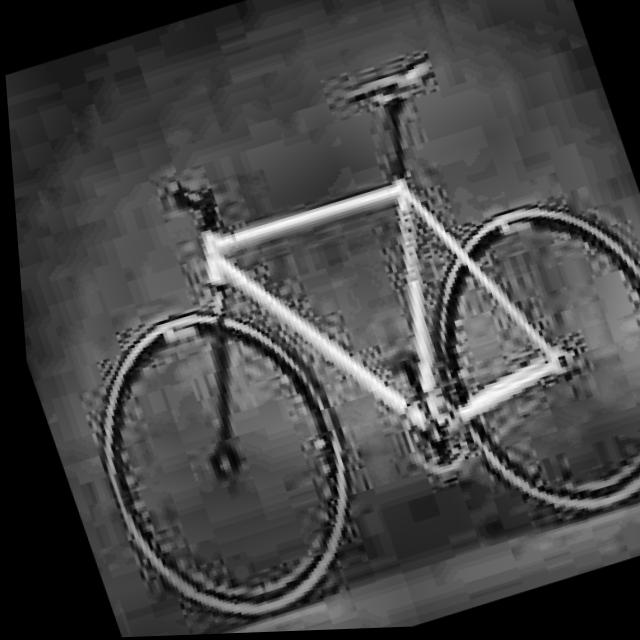bike: (1, 0, 640, 640)
